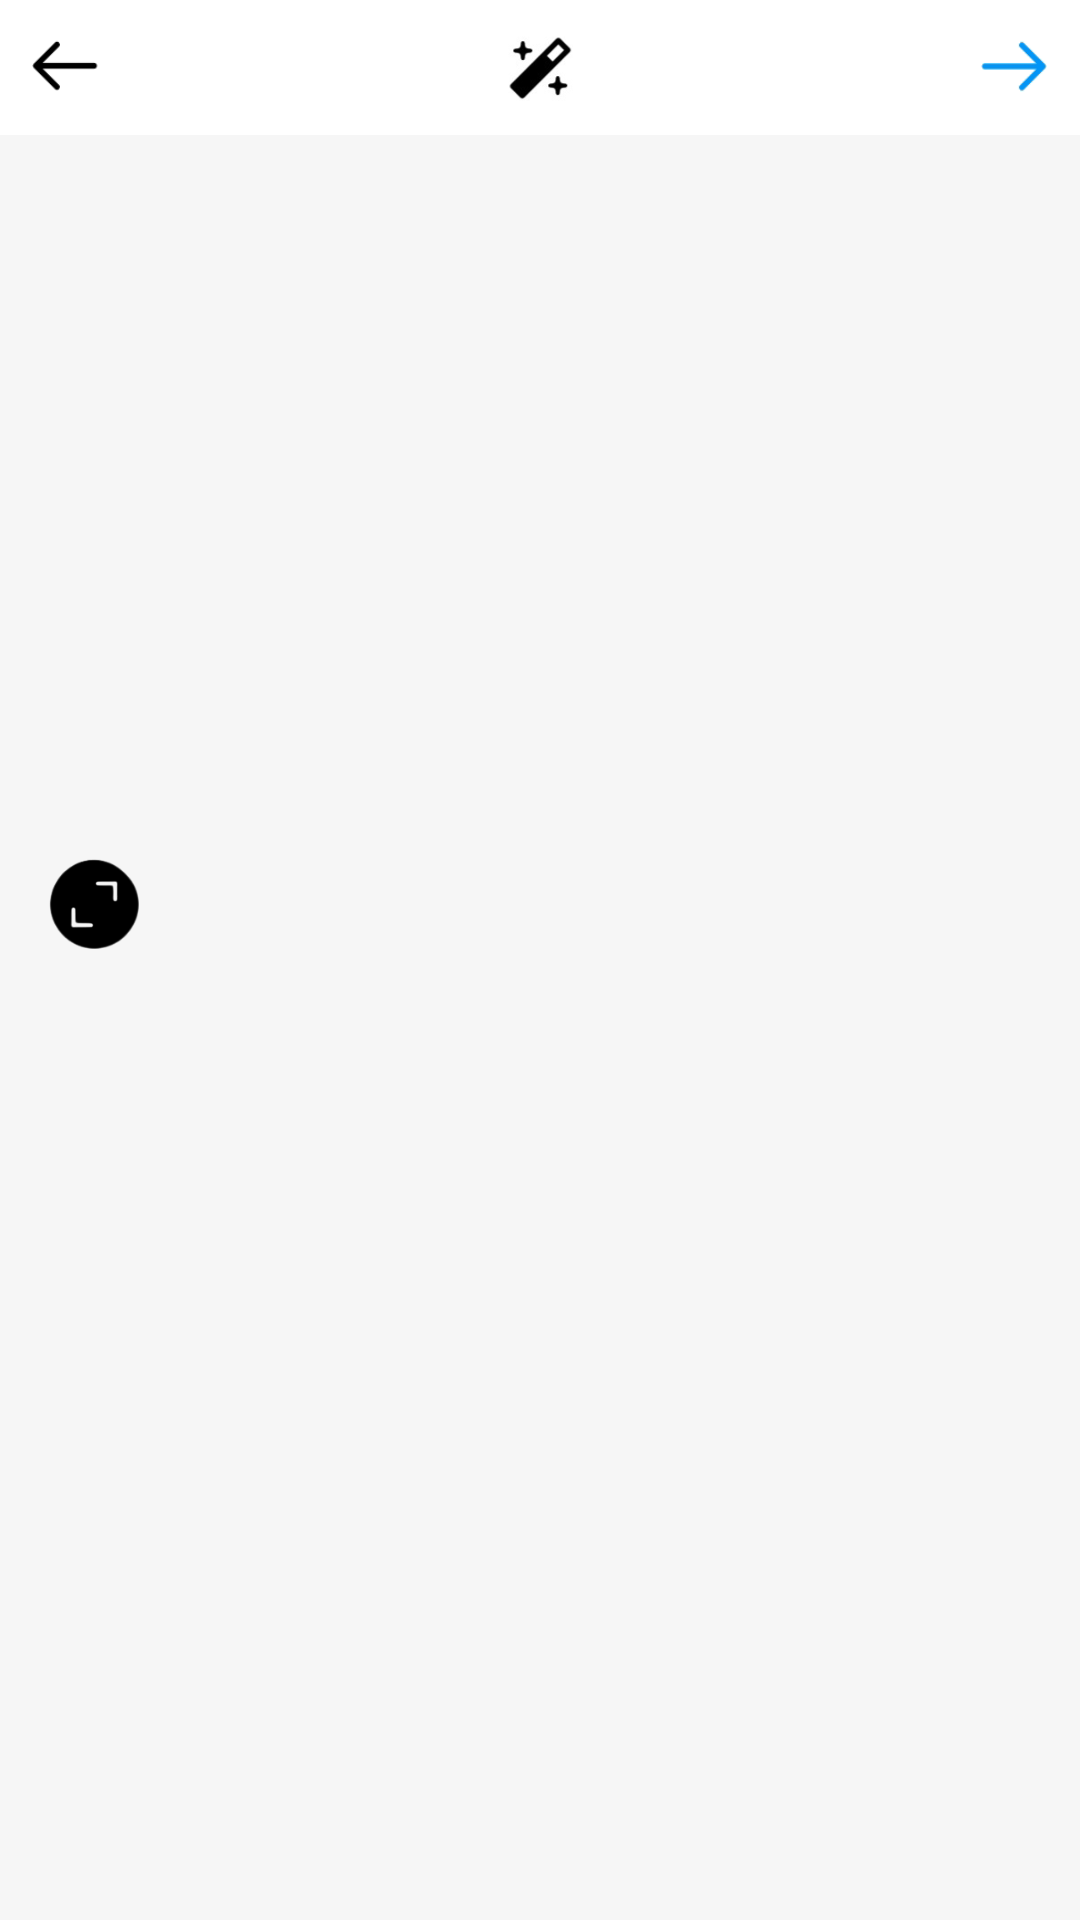

Named icons in this screenshot (1080w x 1920h) and their bounding boxes, (x1, y1, x2, y2):
back: (32, 41, 98, 91)
next: (981, 41, 1047, 92)
post resize: (50, 859, 139, 949)
post style: (509, 37, 571, 99)
